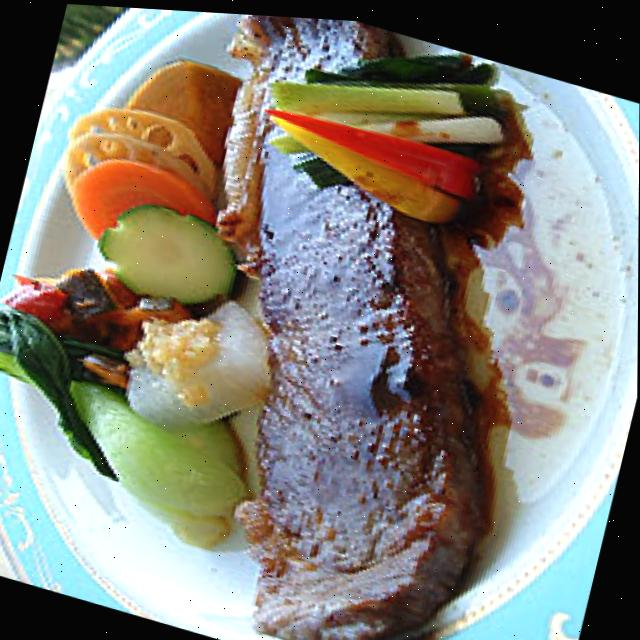牛肉菜式: (93, 5, 591, 640)
